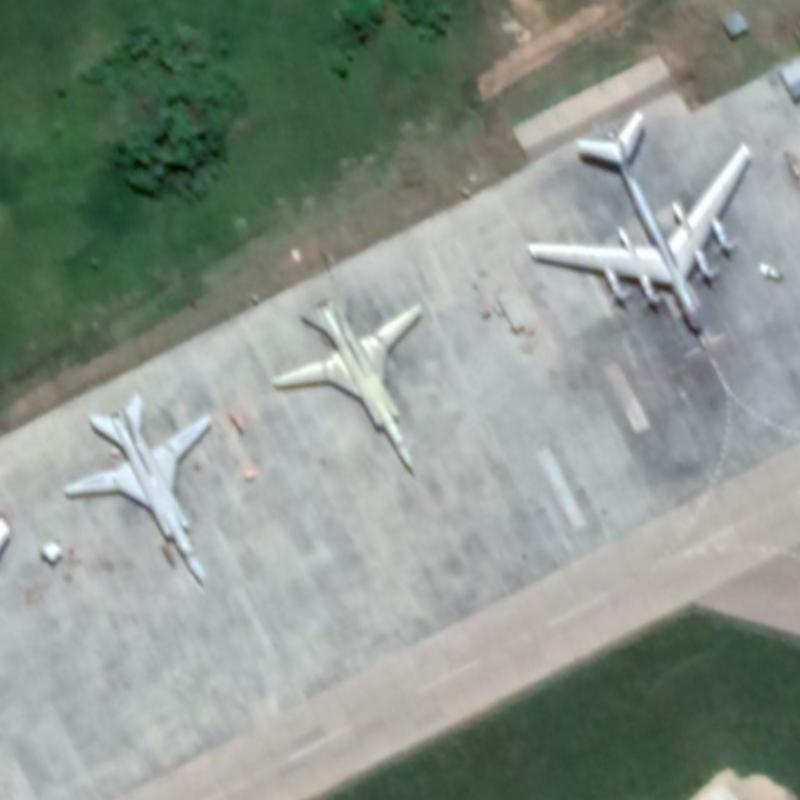A12: (58, 390, 216, 587), (270, 289, 425, 471)
A17: (521, 107, 754, 335)
